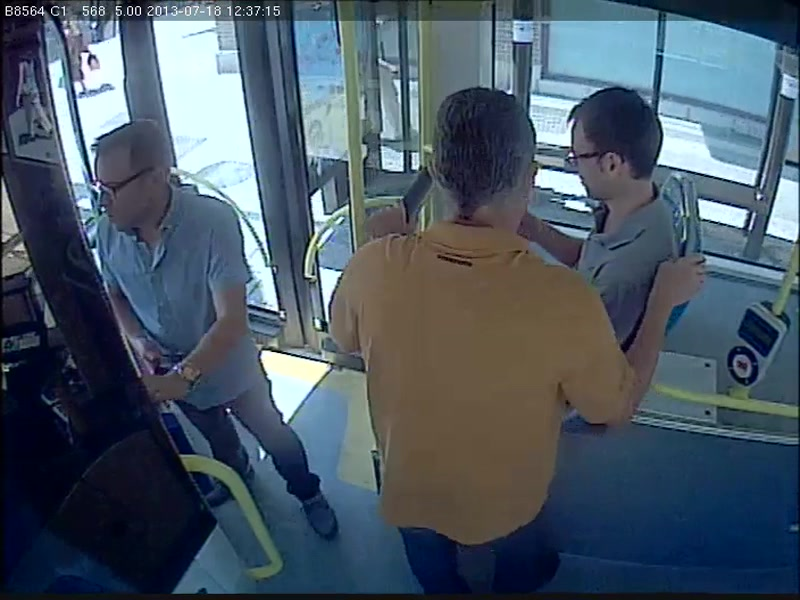Head: (422, 73, 552, 246), (565, 79, 668, 211), (86, 121, 190, 245)
